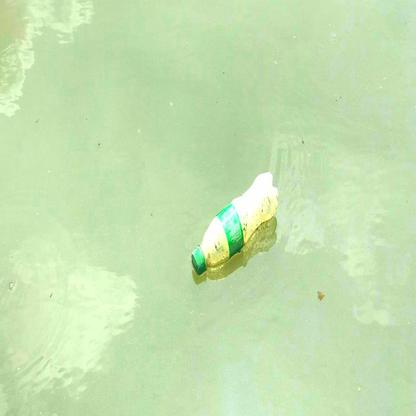plastic bottle: (190, 172, 280, 273)
